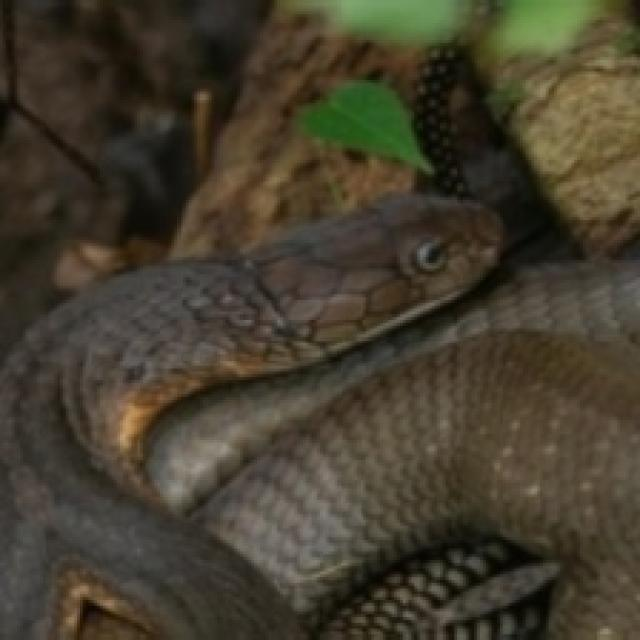king cobra: (0, 198, 640, 640)
